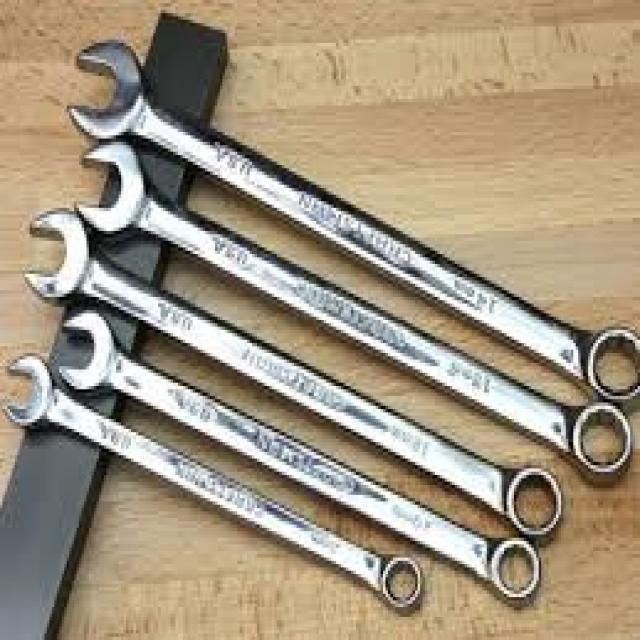wrench: (62, 33, 640, 396), (80, 140, 638, 487), (29, 211, 567, 544), (56, 312, 548, 612), (0, 352, 426, 612)
